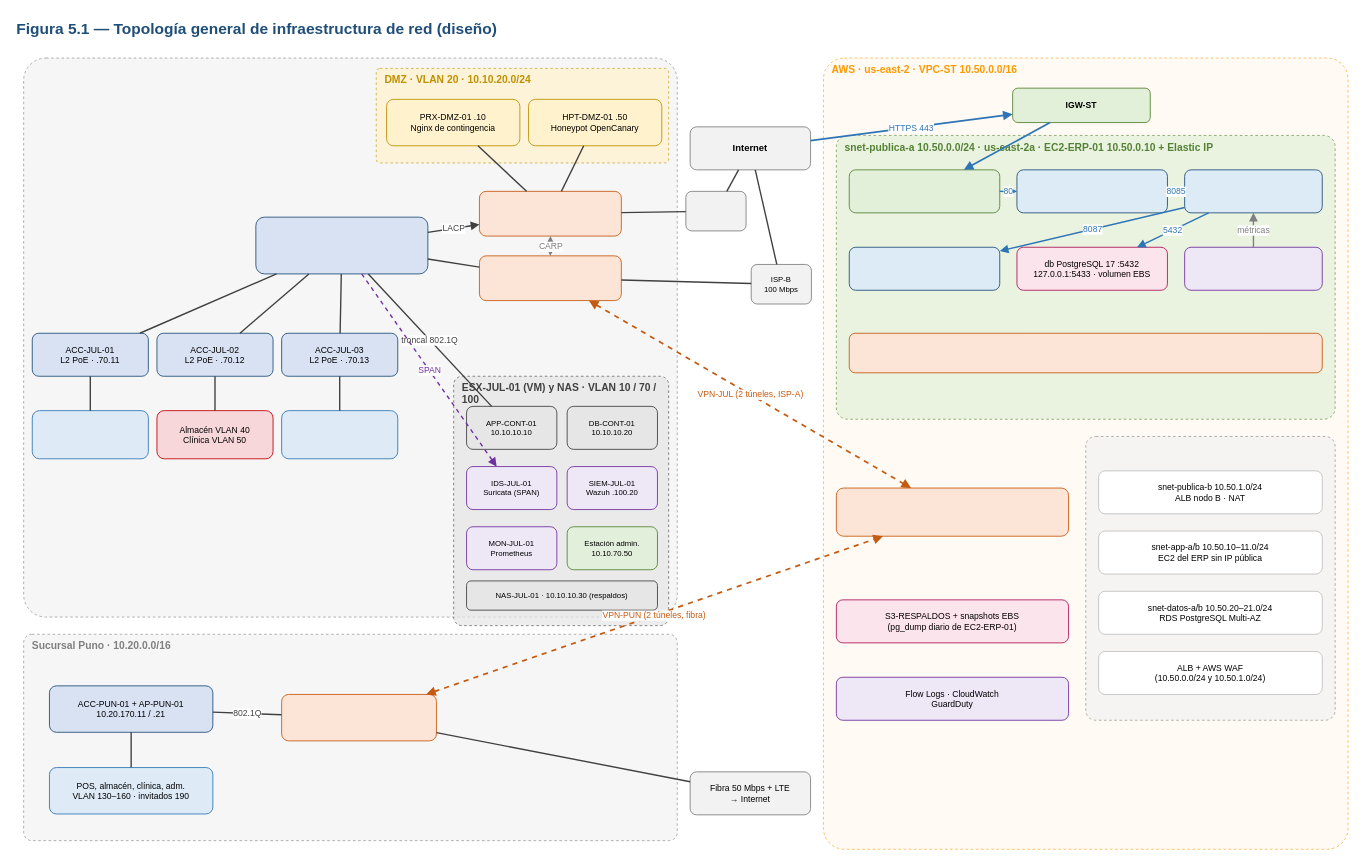
The diagram is 1363 pixels wide and 864 high, and some of its shapes have lost their labels. Here are the shapes that lost their labels. From the top down, the box of each, then its label:
(685, 190, 746, 231): ISP-A 200 Mbps
(848, 169, 1000, 213): caddy 0.0.0.0:443 / :80
(1016, 169, 1167, 213): frontend (Nginx) :80 red Docker
(1184, 169, 1322, 213): backend :8085 host 127.0.0.1
(479, 190, 621, 236): FW-JUL-01 (activo) OPNsense + Suricata
(255, 216, 428, 274): CORE-JUL 2 × switch L3 en stack 10.10.254.6
(479, 255, 621, 301): FW-JUL-02 (pasivo) OPNsense + Suricata
(848, 246, 1000, 290): mensajeria :8087 127.0.0.1
(1184, 246, 1322, 290): prometheus :9090 127.0.0.1
(23, 57, 677, 617): Sede central Juliaca · 10.10.0.0/16
(848, 332, 1322, 373): sg-erp: 443/80 público · 22 admin · 9090 MON NACL de subred
(31, 410, 148, 459): POS + impresoras VLAN 30
(281, 410, 398, 459): Administración VLAN 60 AP Wi-Fi (80 / 90)
(835, 487, 1069, 536): VGW-ST VPN Site-to-Site (rutas estáticas)
(1085, 436, 1335, 720): Fase 2: subredes reservadas (CE02)
(281, 694, 436, 741): FW-PUN-01 (OPNsense) gateways 10.20.x.1
